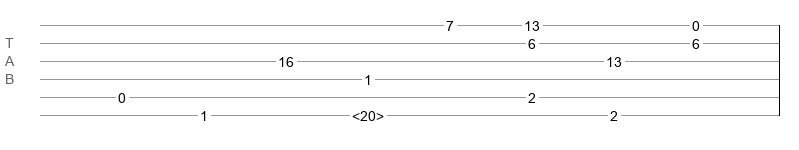0: (118, 90, 126, 100), (692, 18, 700, 28)
1: (200, 108, 208, 118), (364, 72, 372, 82)
13: (524, 18, 540, 28), (606, 54, 622, 64)
16: (278, 54, 294, 64)
2: (528, 90, 536, 100), (610, 108, 618, 118)
6: (528, 36, 536, 46), (692, 36, 700, 46)
7: (446, 18, 454, 28)
harmonic: (352, 108, 384, 118)
